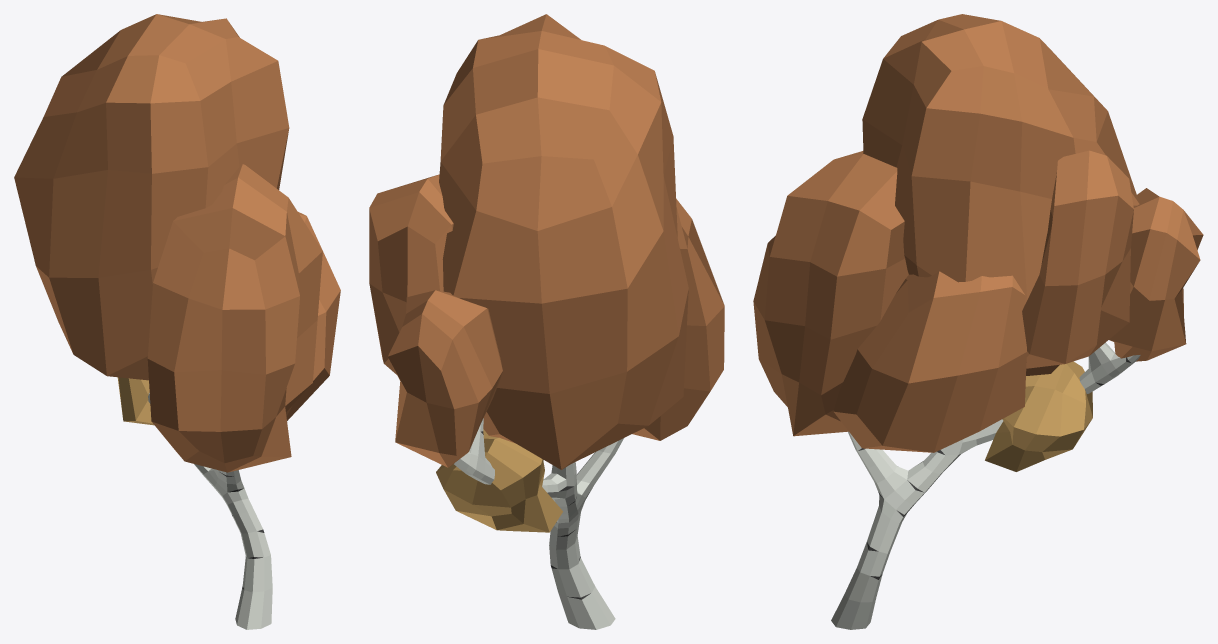
File: birchtree_autumn_1.glb
3 renders of one model, left to right at view 1: azimuth 30°, elevation 25°; view 2: azimuth 150°, elevation 25°; view 3: azimuth 270°, elevation 25°, orthographic. The views are drawn at different scales.
Visible parts, largest first — view 1: BirchTree_Autumn_1; view 2: BirchTree_Autumn_1; view 3: BirchTree_Autumn_1.
Boxes of the visible parts, bbox=[...] form: BirchTree_Autumn_1: bbox=[14, 14, 340, 629]; BirchTree_Autumn_1: bbox=[369, 14, 724, 629]; BirchTree_Autumn_1: bbox=[753, 14, 1203, 629].
Bounding box in the file's own units: 1.7 × 3.57 × 2.48.
